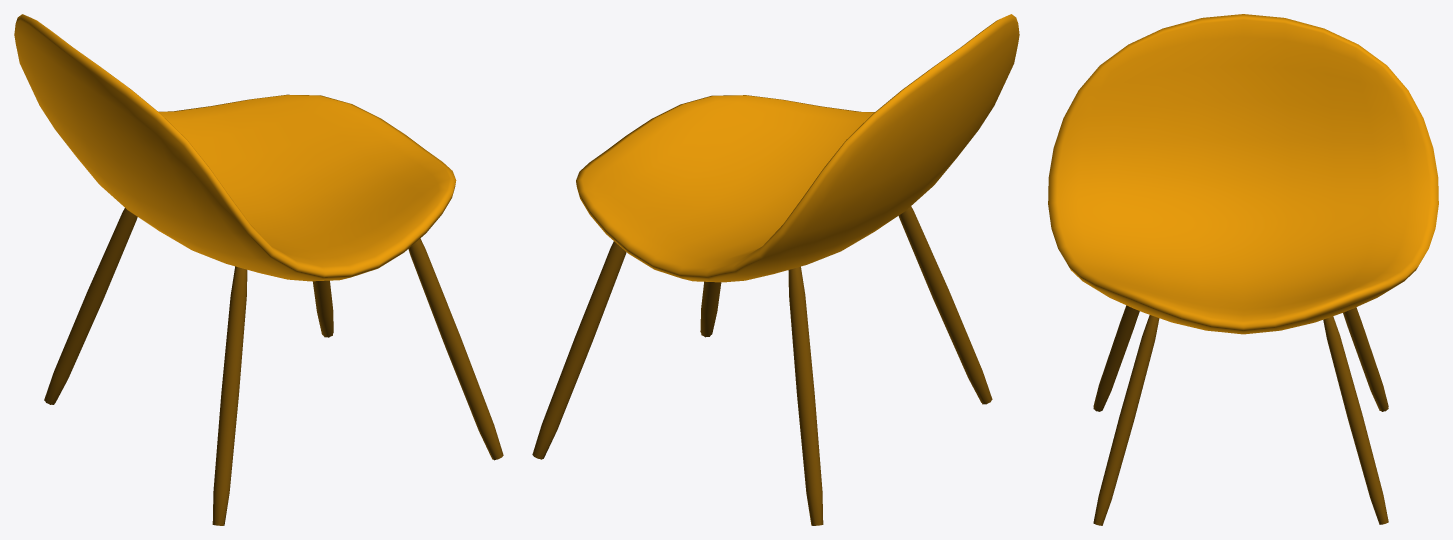
File: RietenStoel.fbx
The picture shows the model from 3 angles, left to right: view 1: azimuth 30°, elevation 25°; view 2: azimuth 150°, elevation 25°; view 3: azimuth 270°, elevation 25°; orthographic projection. The views are drawn at different scales.
Parts seen in each view (by area): view 1: RietenChair; view 2: RietenChair; view 3: RietenChair.
Boxes of the visible parts, left/top/right/bottom form: RietenChair: left=14, top=14, right=503, bottom=525; RietenChair: left=532, top=14, right=1019, bottom=525; RietenChair: left=1048, top=14, right=1438, bottom=525.
Bounding box in the file's own units: 6.33 × 7.3 × 7.
